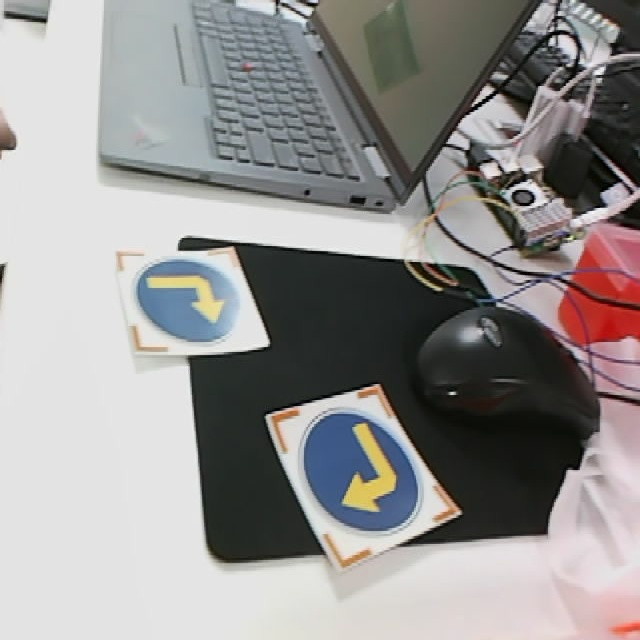right: (263, 380, 462, 566), (124, 247, 270, 355)
